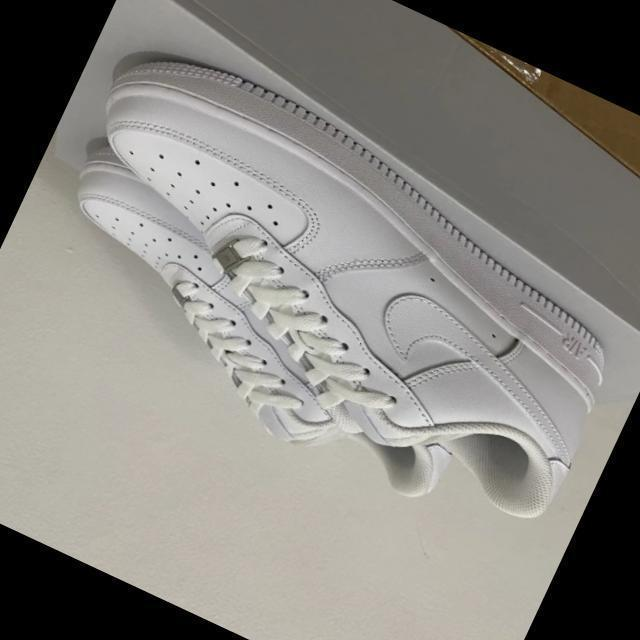nike original air force: (20, 25, 640, 542), (9, 135, 511, 510)
